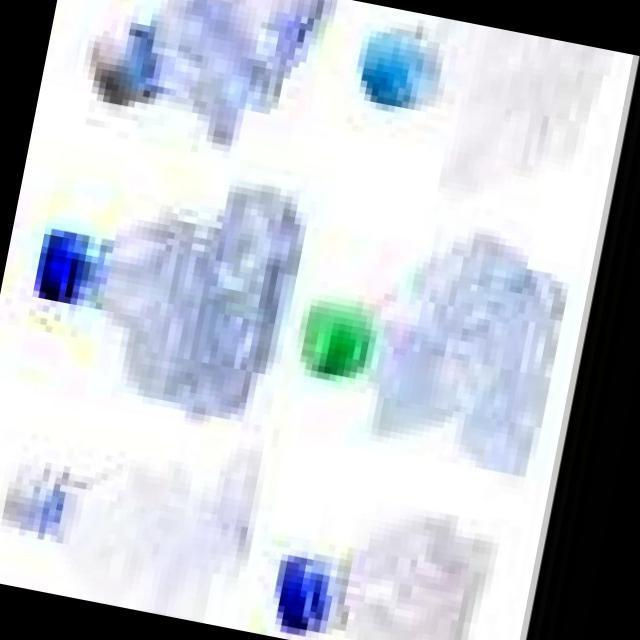defected: (261, 197, 588, 508), (13, 144, 322, 438), (0, 394, 282, 631), (324, 2, 614, 230), (60, 0, 332, 177), (244, 463, 510, 640)
